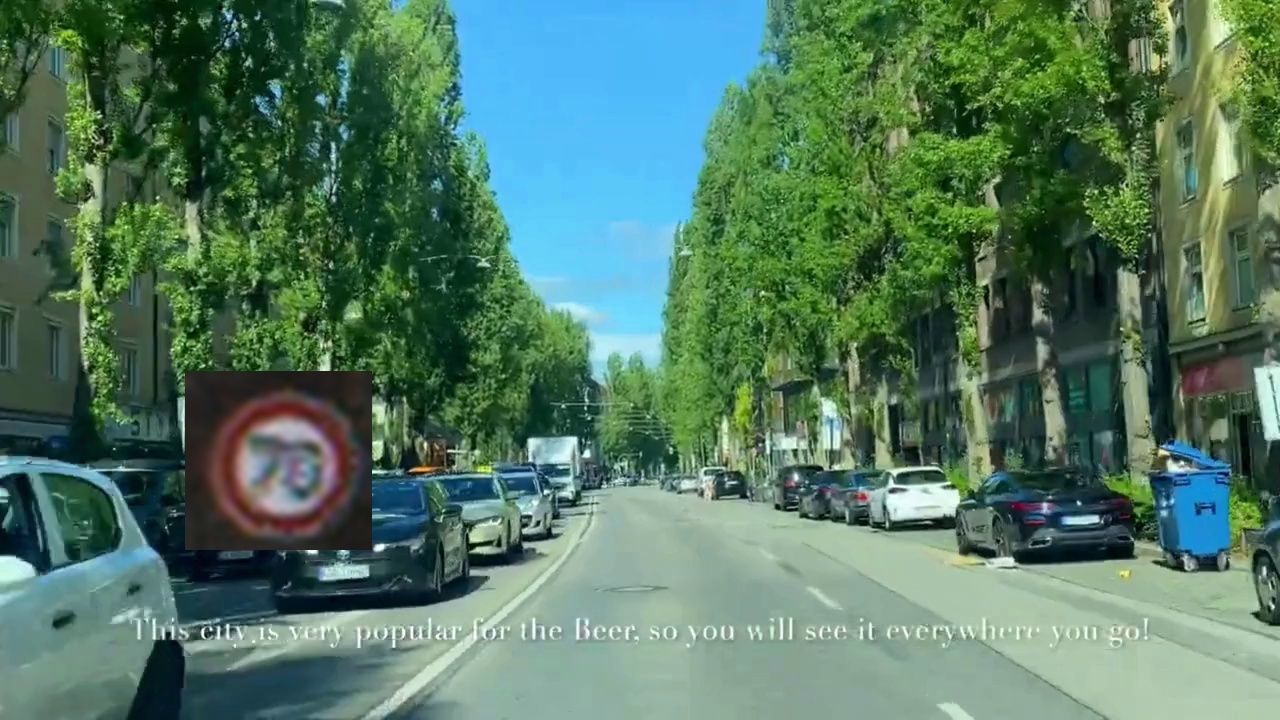Speed 70: (185, 371, 372, 550)
